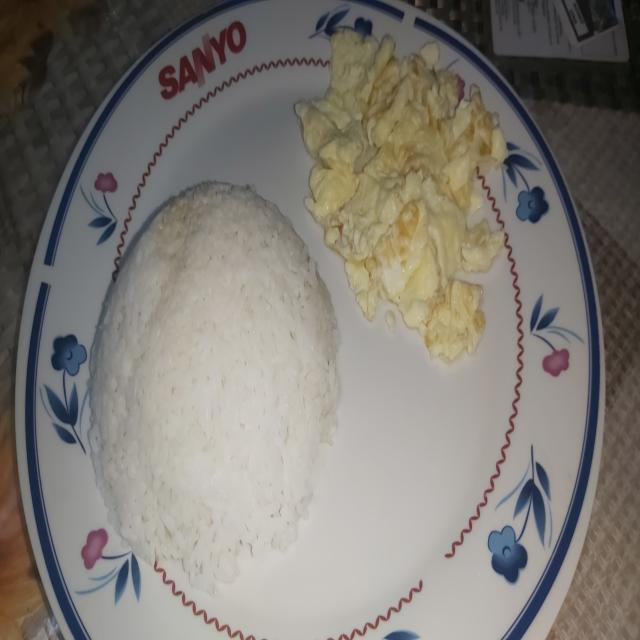Chicken -Chicken Inasal-: (84, 178, 340, 573)
